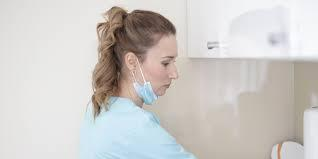Wore Mask Incorrectly: (91, 8, 179, 106)
